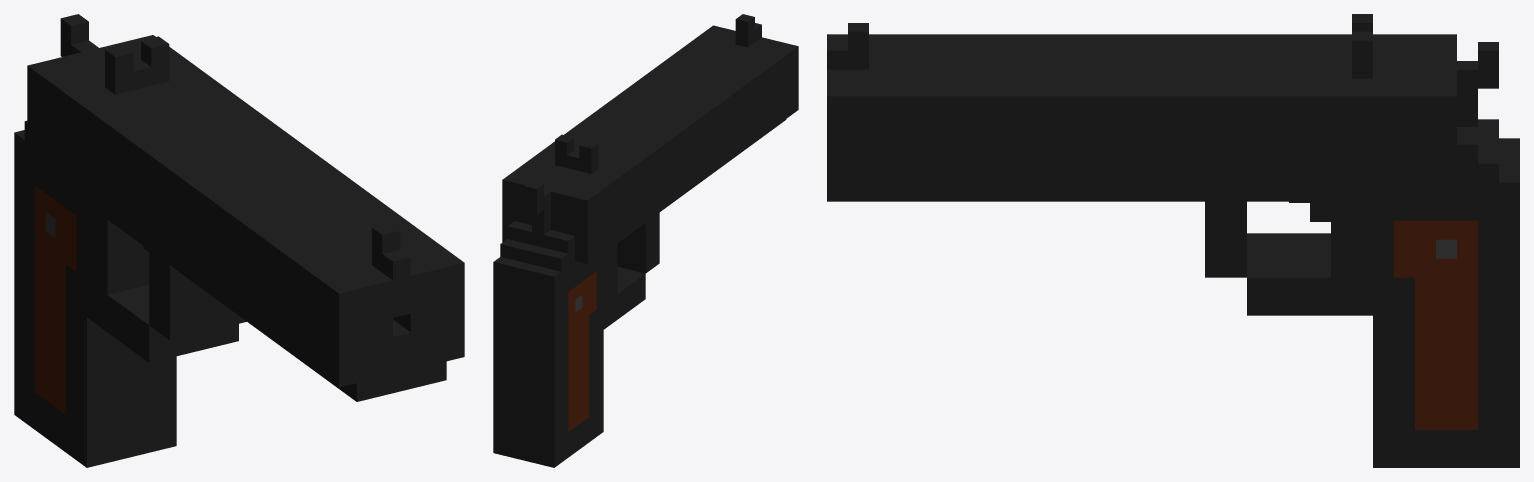
Rendered from gun_pistolet.glb.
3 renders of one model, left to right at view 1: azimuth 30°, elevation 25°; view 2: azimuth 150°, elevation 25°; view 3: azimuth 270°, elevation 25°, orthographic. The views are drawn at different scales.
Visible parts, largest first — view 1: model; view 2: model; view 3: model.
Boxes of the visible parts, box(x1,y1,x2,y2) form: model: box(14, 14, 464, 467); model: box(493, 14, 798, 467); model: box(827, 14, 1519, 467).
Bounding box in the file's own units: 0.7 × 2.2 × 3.3.
